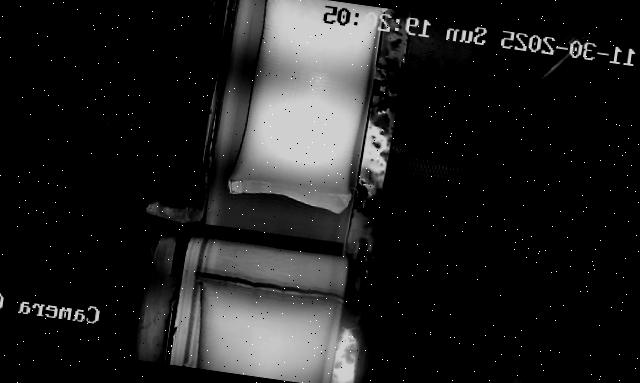bag: (222, 0, 388, 215), (185, 276, 342, 383)
